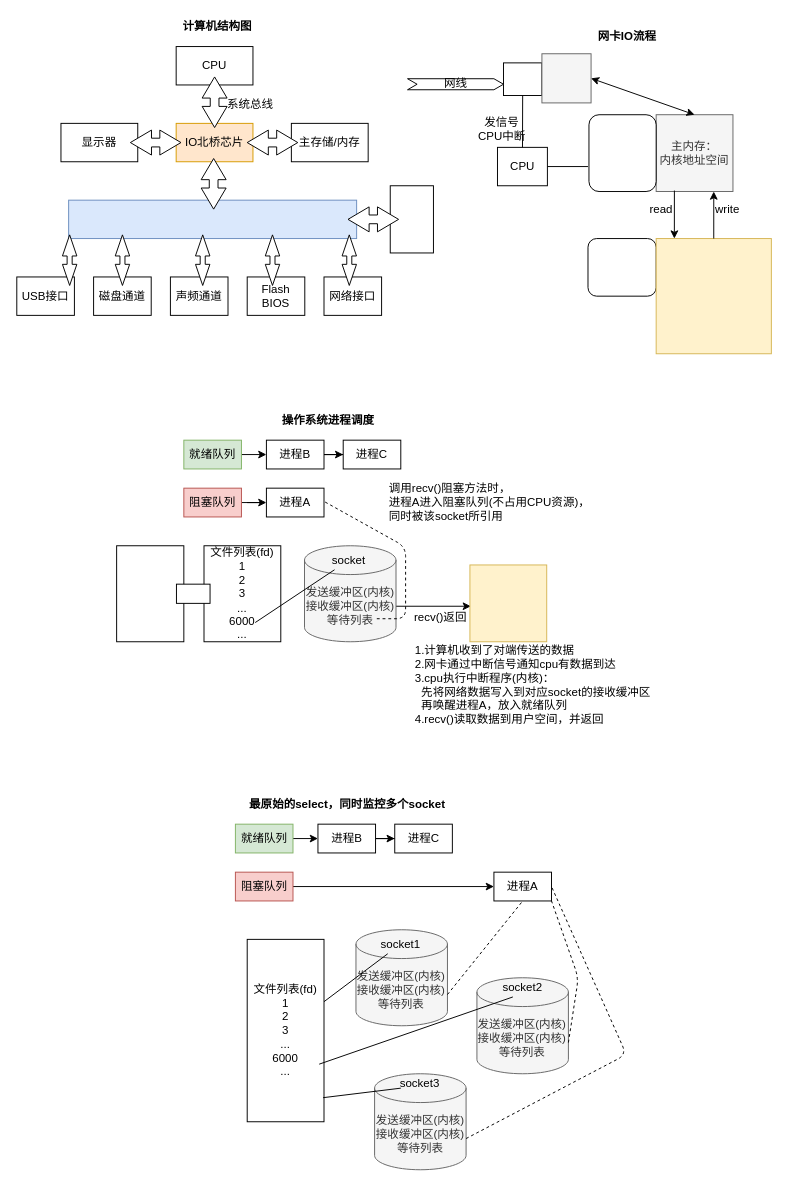
This 788x1187 diagram has some shape labels left out. The shapes that lost their labels are listed below. From the top down, each one's box as (x1, y1, x2, y2) in pixels, then its label:
(503, 62, 542, 96): 网卡
(541, 53, 591, 103): 网卡内存
(588, 114, 656, 192): 操作系统 内核程序
(68, 199, 357, 239): IO南桥芯片
(389, 185, 433, 253): PCI扩展槽
(587, 238, 656, 296): 用户程序
(655, 238, 771, 354): 主内存： 用户地址空间
(116, 545, 184, 642): 端口号 1 2 3 ... 1234 ...
(469, 564, 547, 642): 用户地址空间
